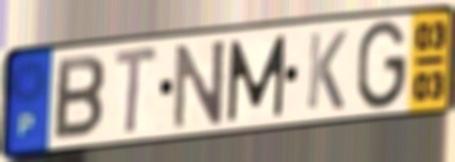B: (50, 53, 108, 144)
G: (353, 18, 410, 113)
K: (304, 28, 350, 113)
M: (225, 32, 289, 126)
N: (171, 36, 229, 133)
T: (112, 42, 161, 139)
